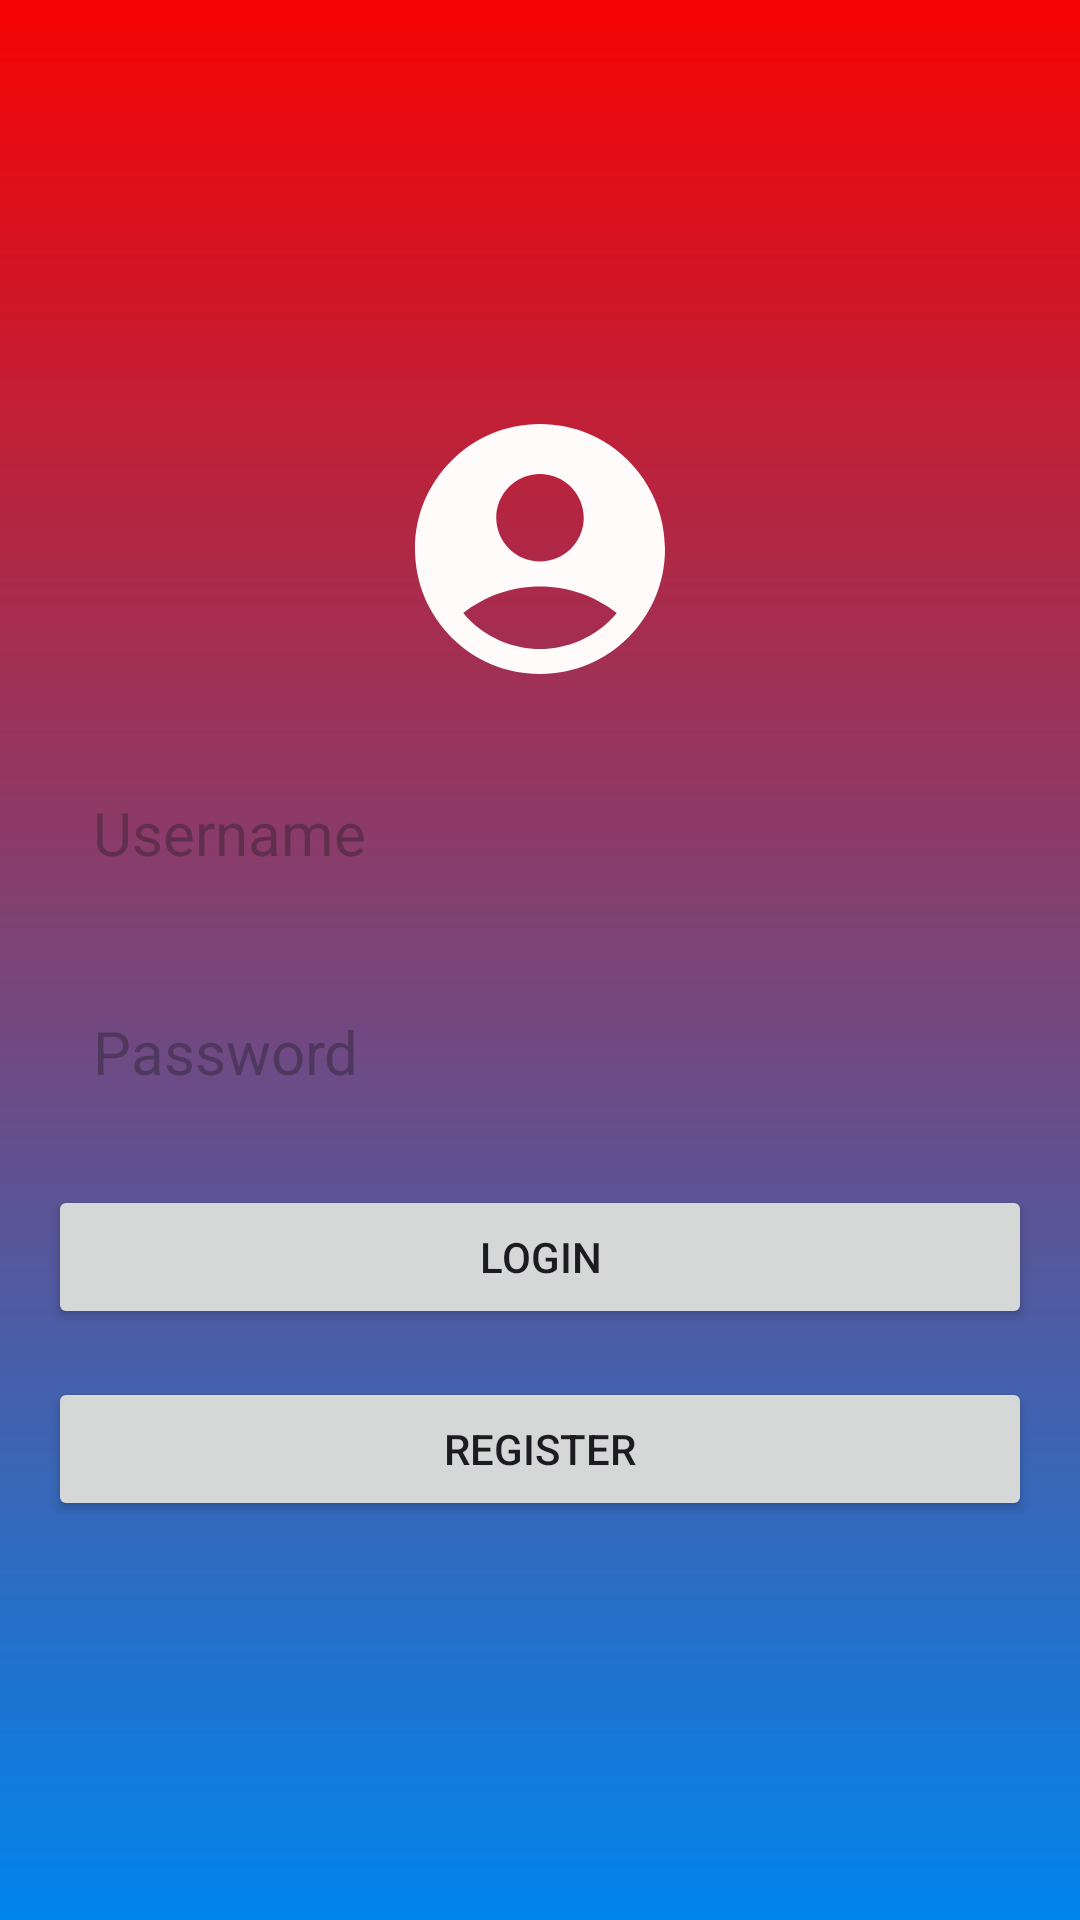

Point at icon controls on the screen. Image size 1080*1920, points as [x,y].
account circle: [540,549]
